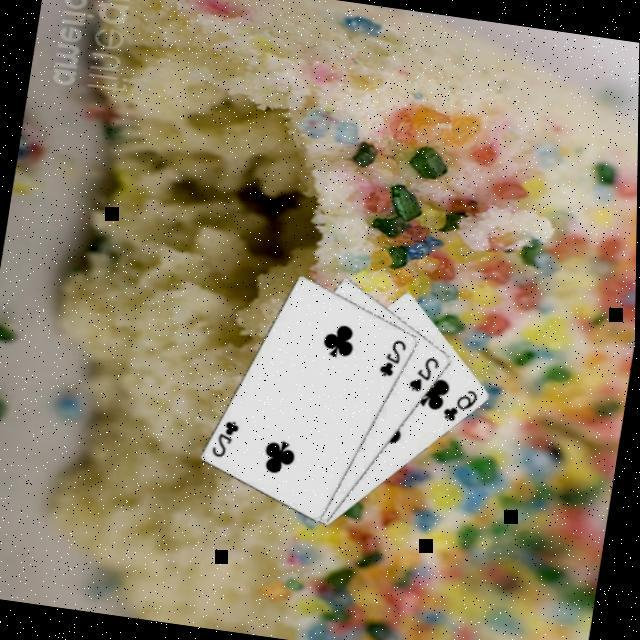2C: (378, 336, 414, 382), (212, 416, 246, 463)
2S: (407, 352, 446, 398)
6C: (442, 384, 485, 429)
